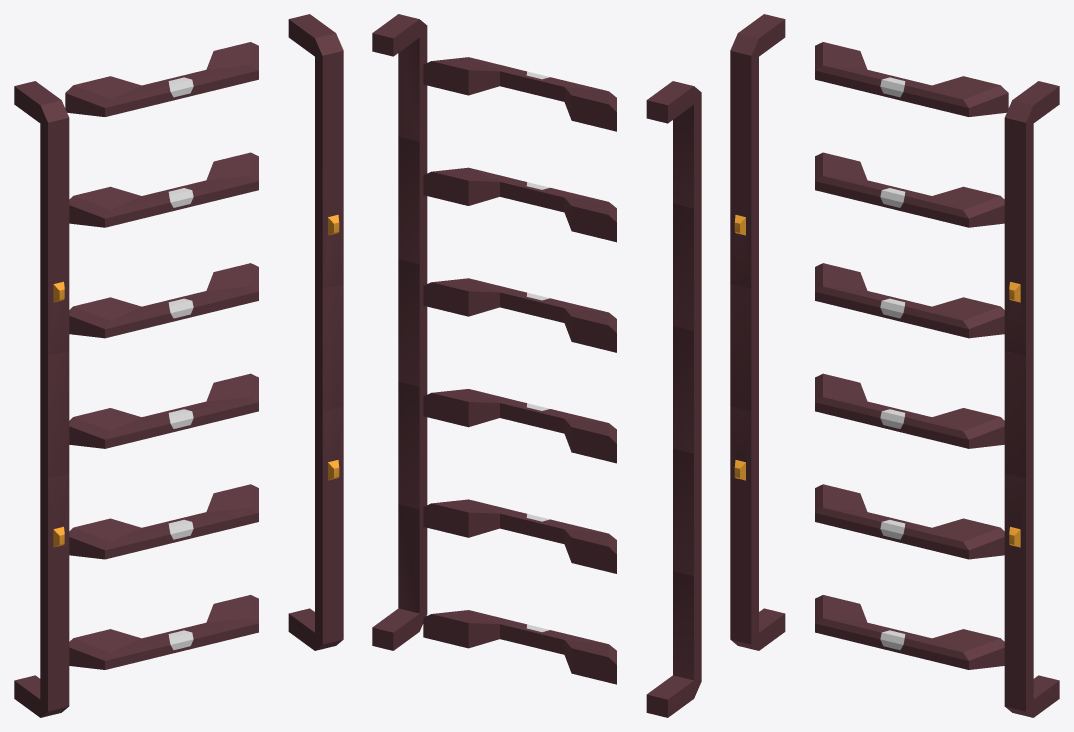
File: scifi-ladder.fbx
3 views of the same model, side by side, from view 1: azimuth 30°, elevation 25°; view 2: azimuth 150°, elevation 25°; view 3: azimuth 330°, elevation 25° (orthographic).
Parts seen in each view (by area): view 1: scifi-ladder; view 2: scifi-ladder; view 3: scifi-ladder.
Boxes of the visible parts, x1=… form: scifi-ladder: x1=14, y1=14, x2=343, y2=717; scifi-ladder: x1=372, y1=14, x2=701, y2=717; scifi-ladder: x1=730, y1=14, x2=1059, y2=717.
Size of the model in its own units: 1.36 by 2.7 by 0.2976.
